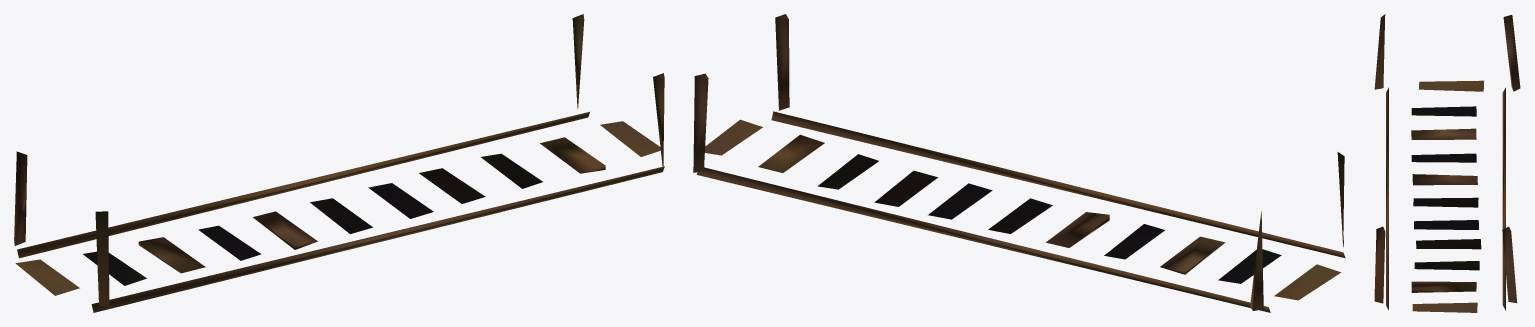
Rendered from bridge_bk_foret_broceliande_0005.glb.
3 renders of one model, left to right at view 1: azimuth 30°, elevation 25°; view 2: azimuth 150°, elevation 25°; view 3: azimuth 270°, elevation 25°, orthographic. The views are drawn at different scales.
Visible parts, largest first — view 1: bridge_bk_005; view 2: bridge_bk_005; view 3: bridge_bk_005.
Boxes of the visible parts, <box> form: bridge_bk_005: <box>14,14,664,312</box>; bridge_bk_005: <box>693,14,1345,312</box>; bridge_bk_005: <box>1374,14,1520,312</box>.
Bounding box in the file's own units: 7.26 × 1.2 × 1.94.
